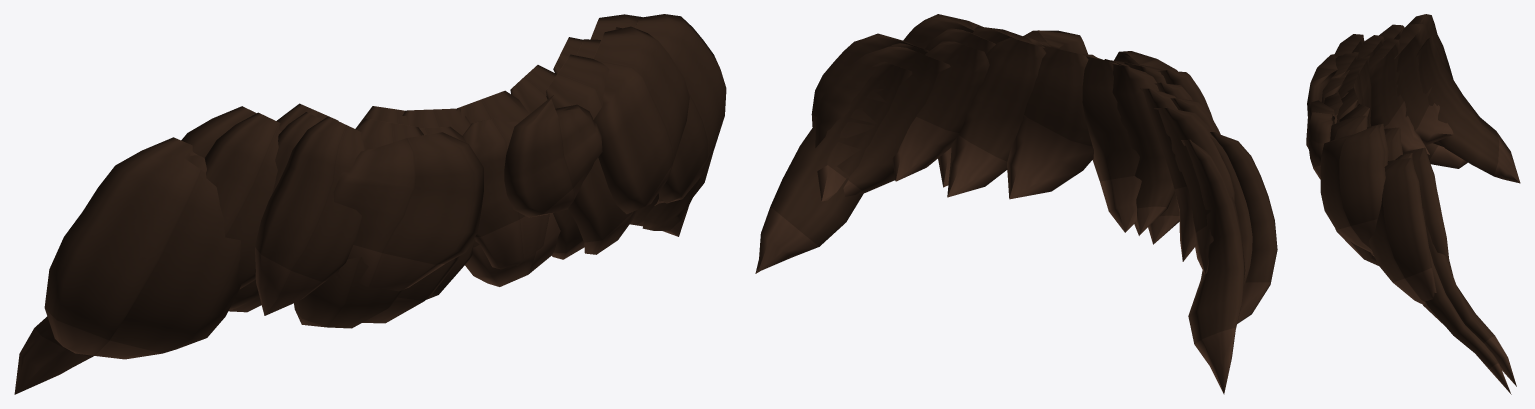
The model's file is vincentt-mustache-walrus.glb.
The picture shows the model from 3 angles, left to right: view 1: azimuth 30°, elevation 25°; view 2: azimuth 150°, elevation 25°; view 3: azimuth 270°, elevation 25°; orthographic projection. The views are drawn at different scales.
Parts seen in each view (by area): view 1: mustache_walrus_clumps; view 2: mustache_walrus_clumps; view 3: mustache_walrus_clumps.
Boxes of the visible parts, x1,y1,x2,y2 form: mustache_walrus_clumps: (14, 14, 726, 394); mustache_walrus_clumps: (755, 14, 1277, 394); mustache_walrus_clumps: (1306, 14, 1520, 394).
Size of what is drawn, in the model's own units: 0.0635 by 0.029 by 0.0262.
Materials: 2 (2 with a texture image).
